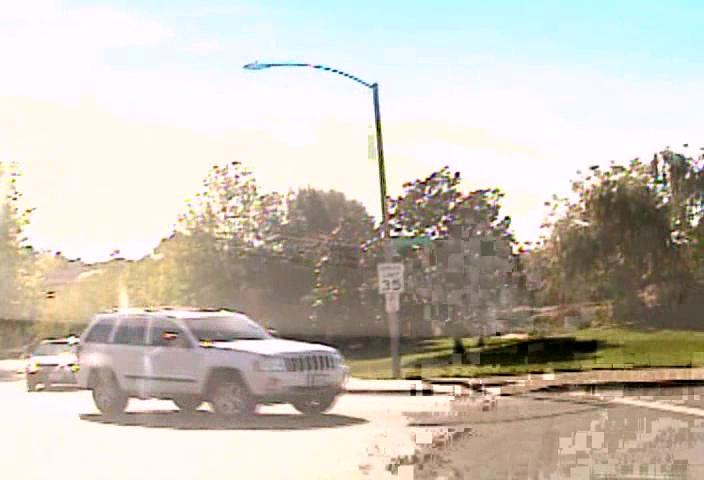speedLimit35: (375, 260, 405, 295)
